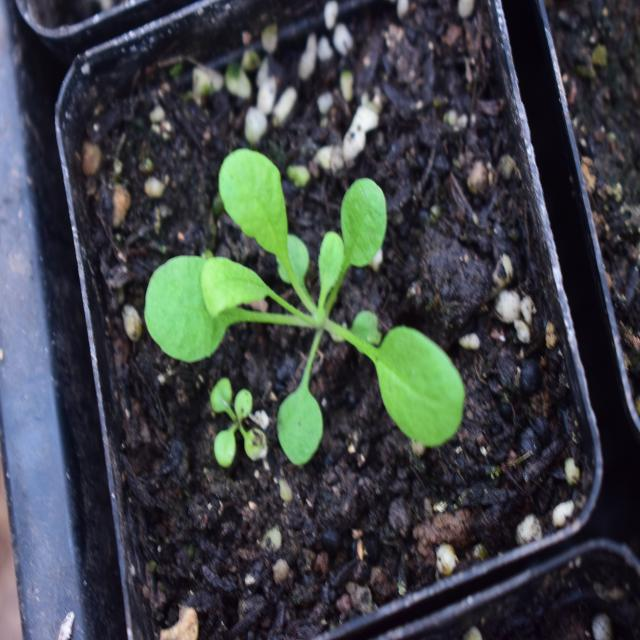Shepherd_Purse: (157, 132, 473, 454)
